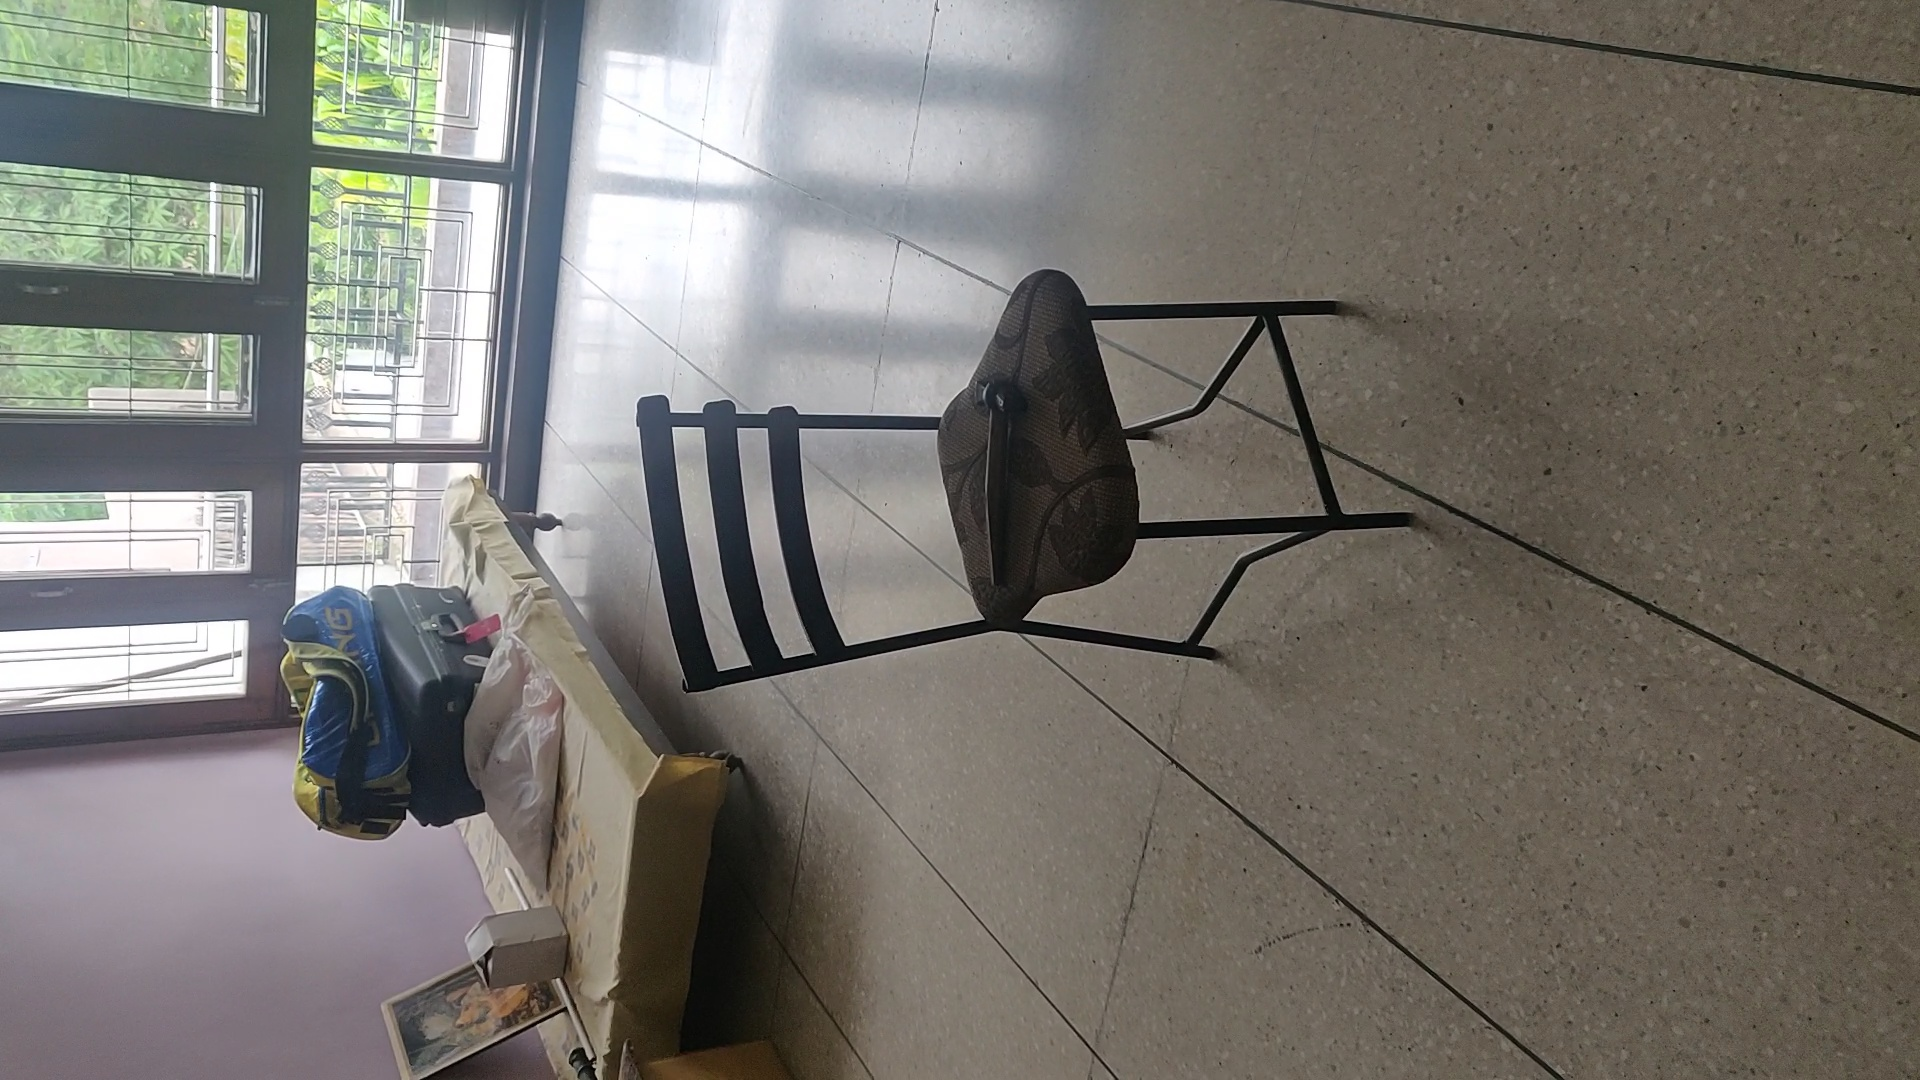hammer: (968, 375, 1030, 587)
